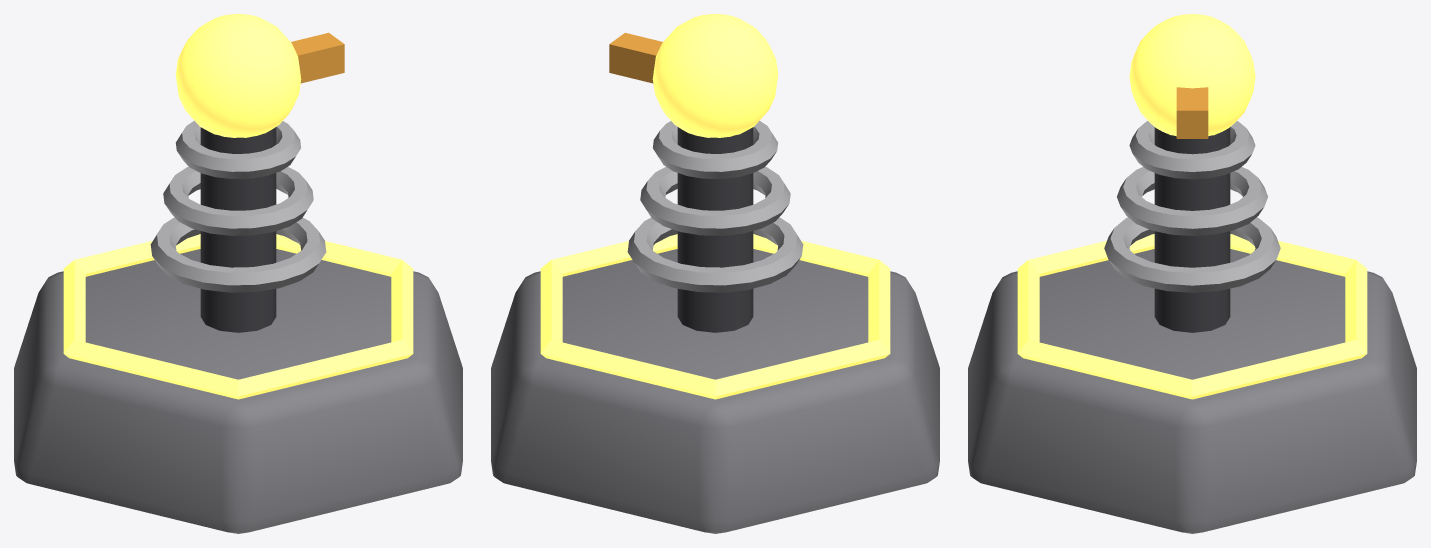
Rendered from turret_rob.glb.
3 renders of one model, left to right at view 1: azimuth 30°, elevation 25°; view 2: azimuth 150°, elevation 25°; view 3: azimuth 270°, elevation 25°, orthographic.
Parts seen in each view (by area): view 1: turret_rob, gun_m; view 2: turret_rob, gun_m; view 3: turret_rob, gun_m.
Boxes of the visible parts, x1,y1,x2,y2 form: turret_rob: (14,234,462,533); gun_m: (150,14,344,332); turret_rob: (491,234,939,533); gun_m: (609,14,803,332); turret_rob: (968,234,1416,533); gun_m: (1104,14,1280,332).
Size of the model in its own units: 0.8057 by 0.72 by 0.7117.
